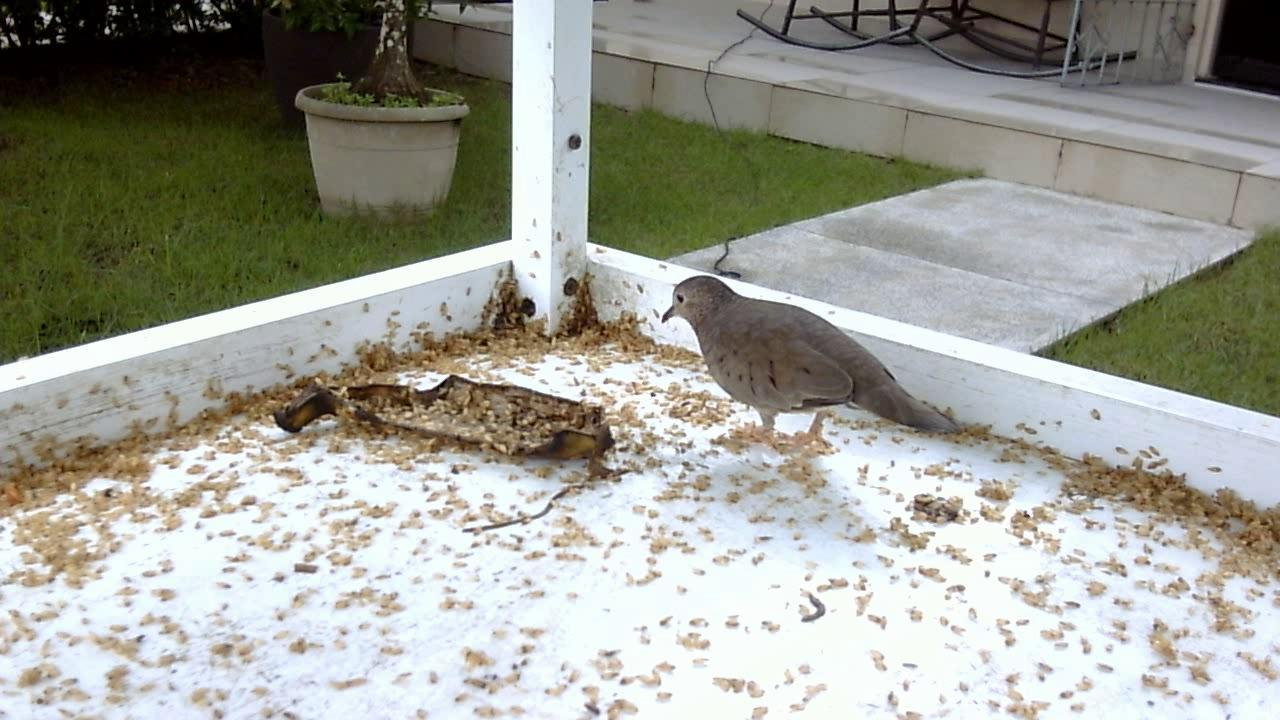rolinha: (647, 261, 961, 461)
